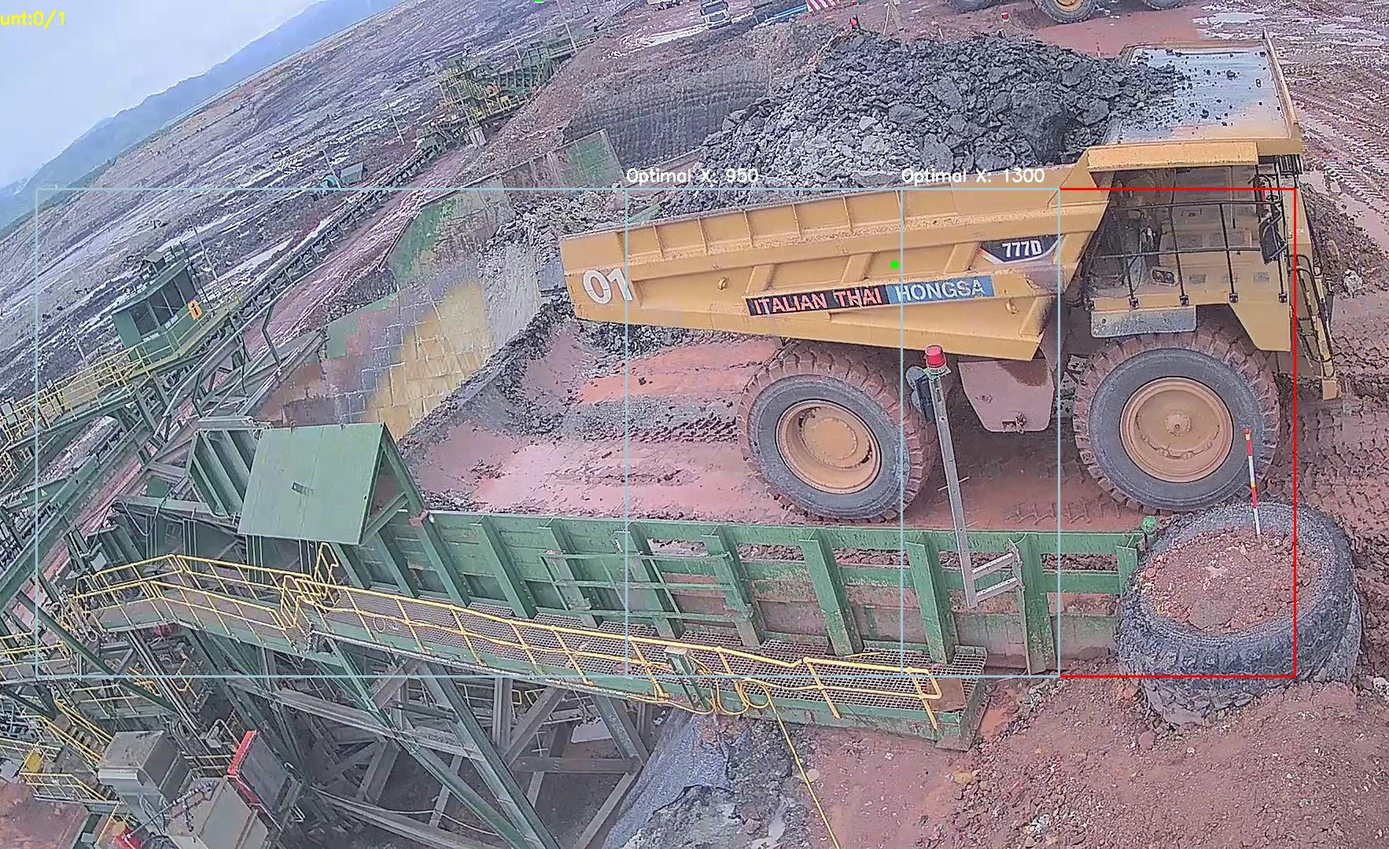company: (743, 273, 1011, 313)
full_load: (619, 30, 1115, 206)
mining_truck: (545, 16, 1343, 512)
tail_number: (573, 262, 635, 310)
truck_size: (979, 230, 1062, 263)
